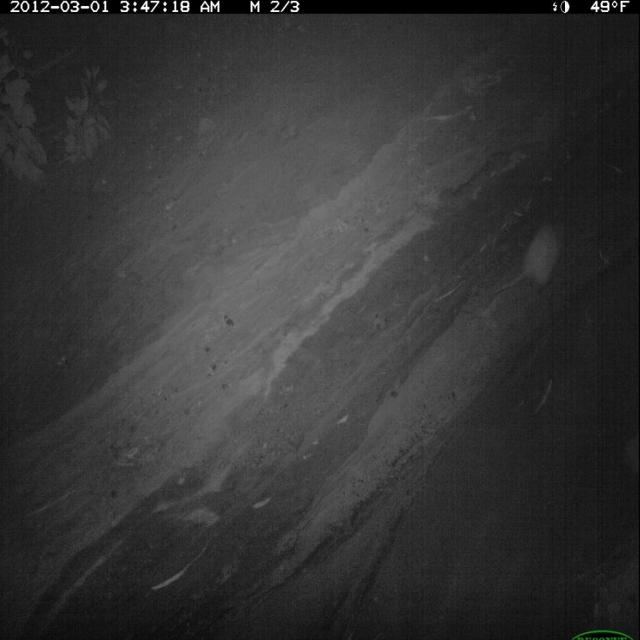opossum: (488, 218, 570, 307)
